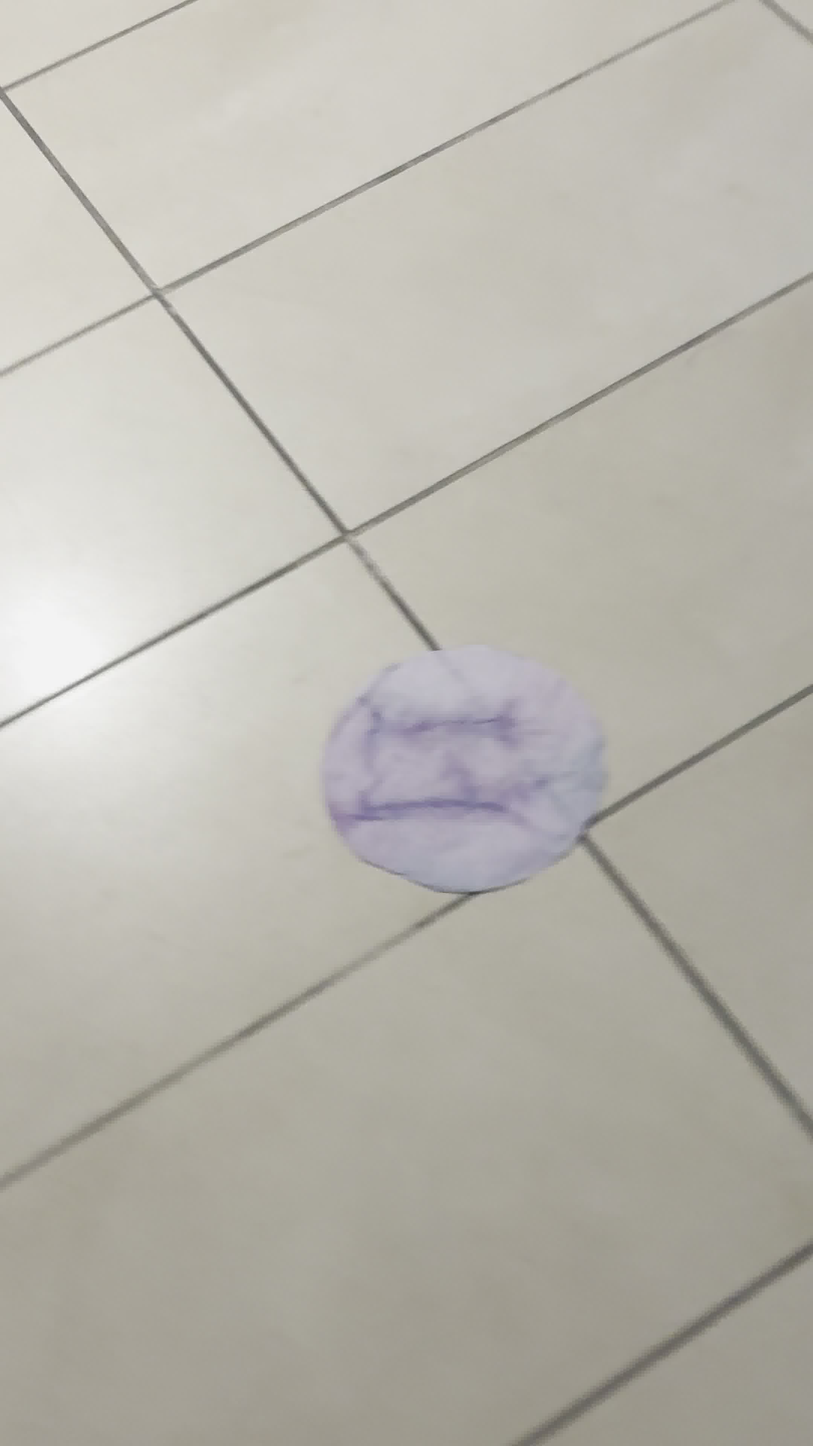Target: (322, 648, 607, 895)
